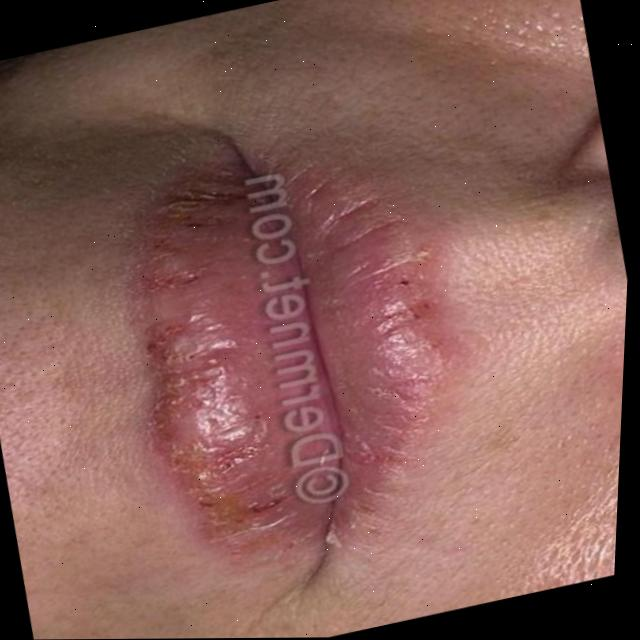Eczema: (82, 135, 481, 614)
